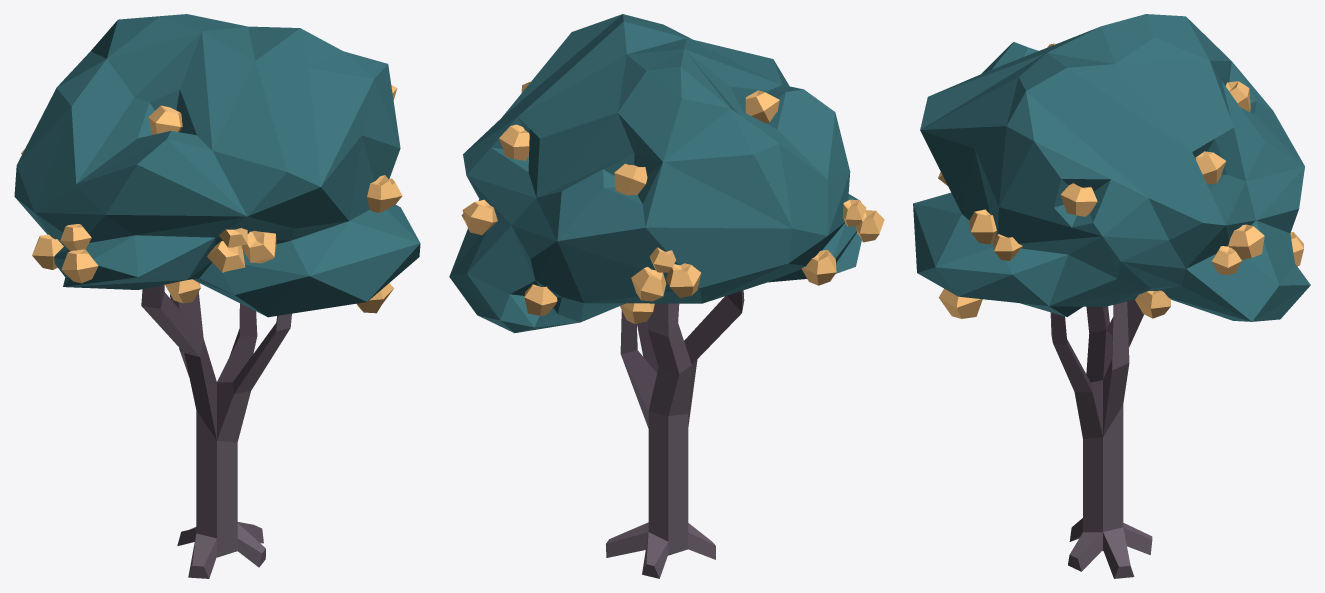
File: SM_Env_Tree_Apple_Grown_01.fbx
3 views of the same model, side by side, from view 1: azimuth 30°, elevation 25°; view 2: azimuth 150°, elevation 25°; view 3: azimuth 270°, elevation 25° (orthographic). The views are drawn at different scales.
Parts seen in each view (by area): view 1: SM_Env_Tree_Apple_Grown_01; view 2: SM_Env_Tree_Apple_Grown_01; view 3: SM_Env_Tree_Apple_Grown_01.
Part boxes in pixels (left/top/right/bottom): SM_Env_Tree_Apple_Grown_01: left=14, top=14, right=420, bottom=578; SM_Env_Tree_Apple_Grown_01: left=449, top=14, right=884, bottom=578; SM_Env_Tree_Apple_Grown_01: left=913, top=14, right=1310, bottom=578.
Bounding box in the file's own units: 3.04 × 4.3 × 2.96.
1 material, 1 textured.
